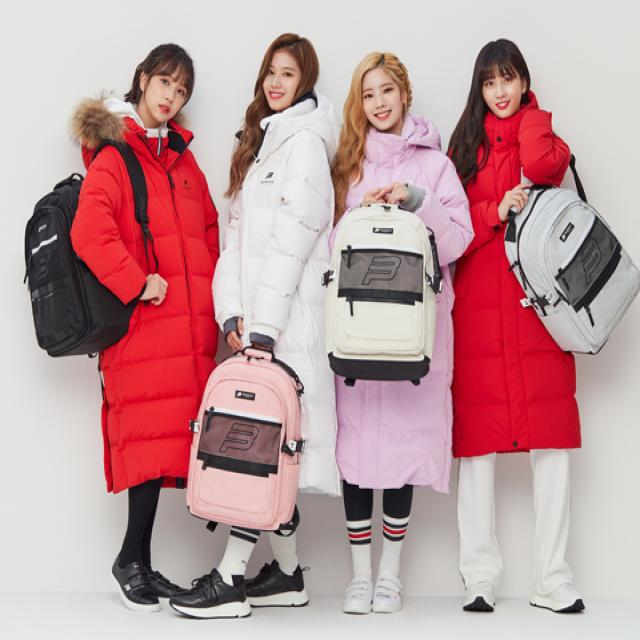backpack: (19, 134, 161, 362), (503, 163, 640, 364), (315, 185, 446, 392), (186, 344, 310, 542)
